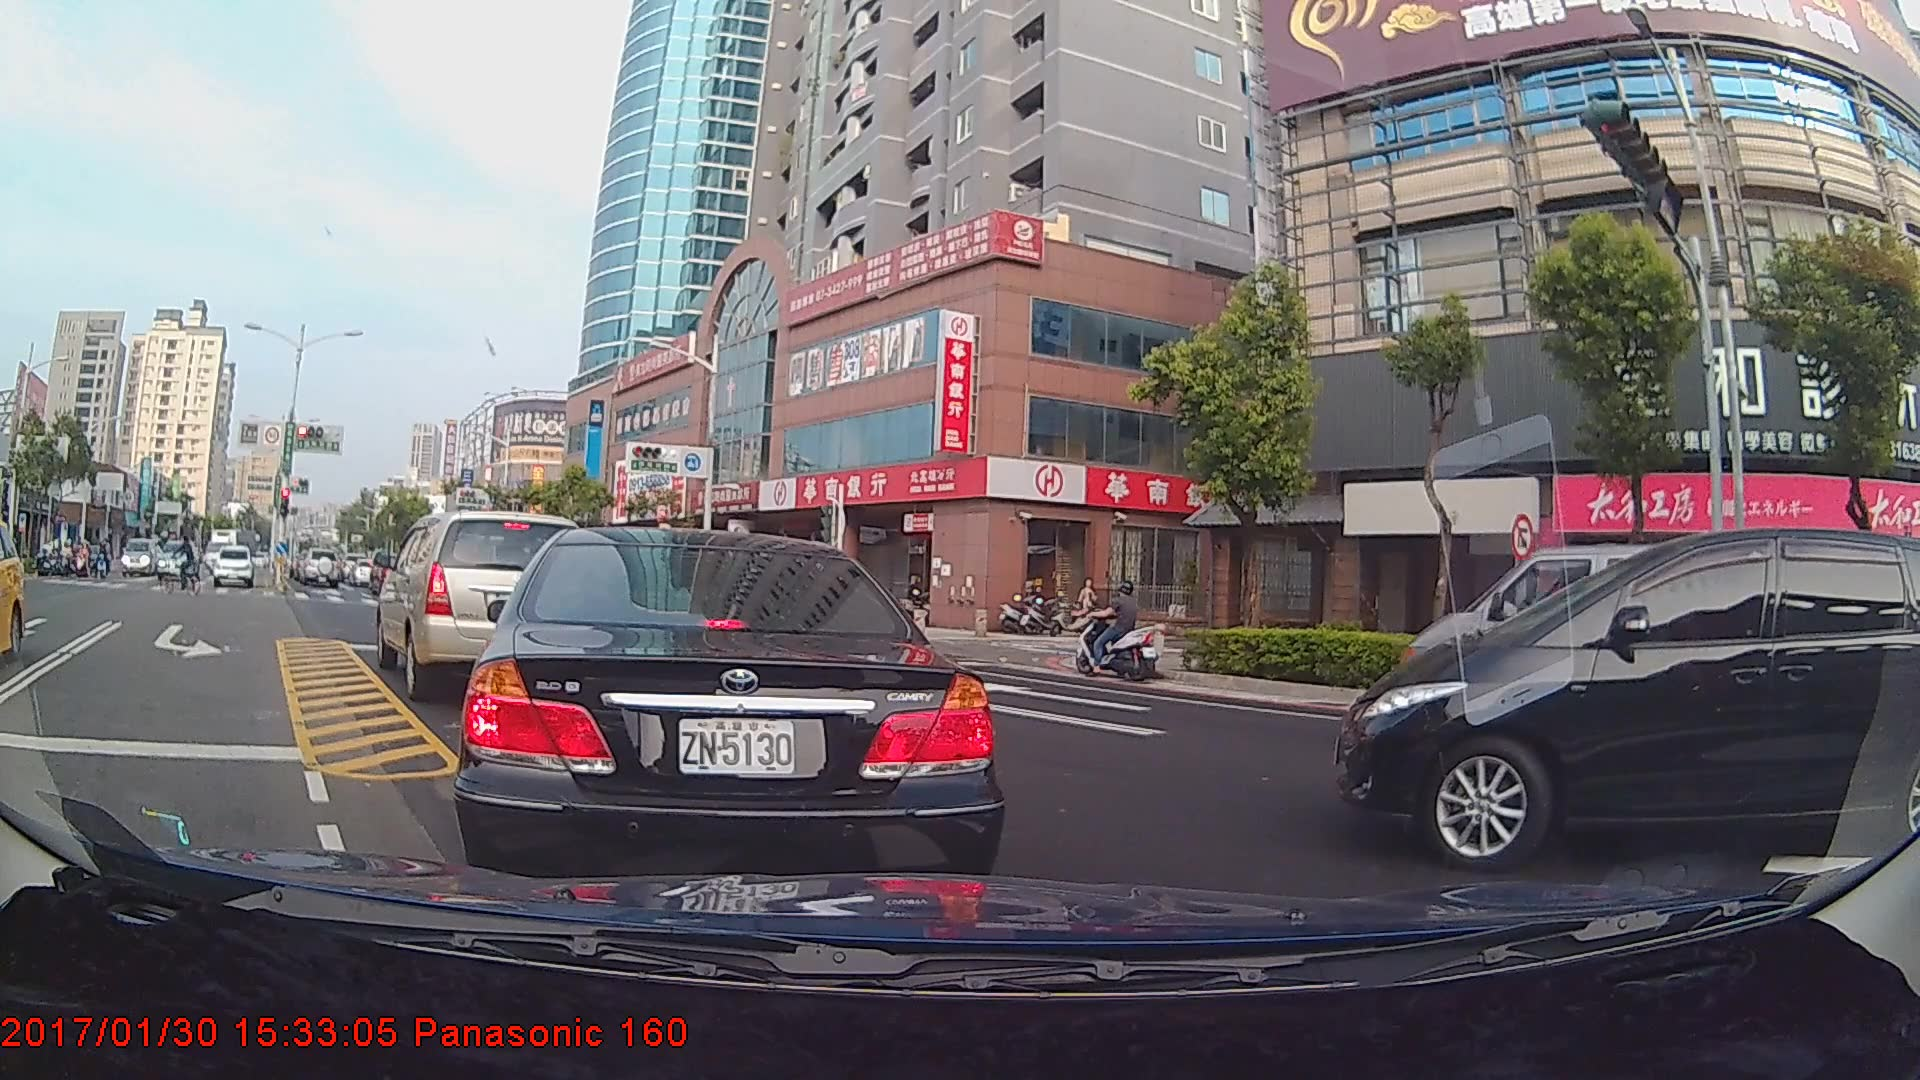pedestrian: (1077, 577, 1097, 628)
rider: (1068, 576, 1171, 687), (156, 533, 213, 600)
vehicle: (449, 520, 1007, 895), (1340, 524, 1900, 891), (1399, 539, 1742, 721), (373, 505, 588, 699), (0, 526, 26, 658), (199, 524, 257, 569), (297, 546, 347, 588), (210, 543, 255, 588), (121, 539, 165, 577), (155, 546, 197, 584)
